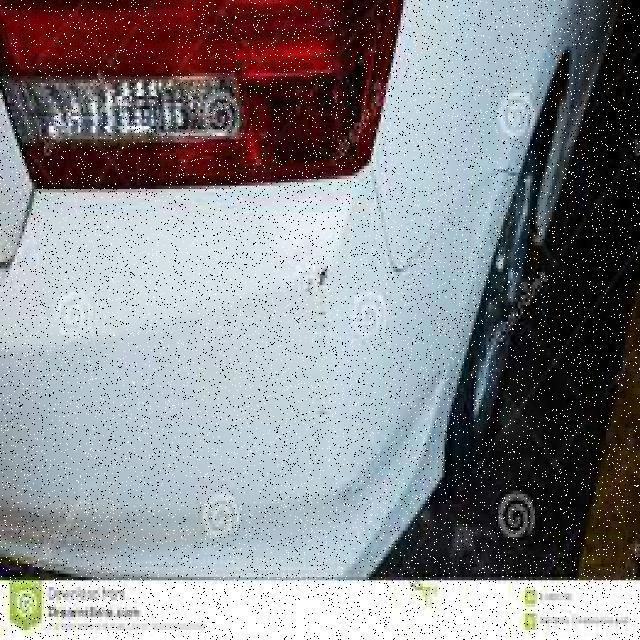rear-bumper-dent: (0, 126, 538, 584)
